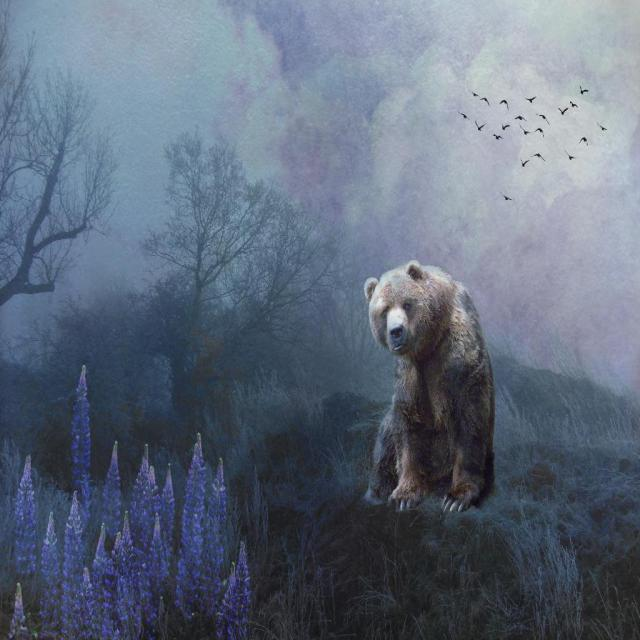Cheetahs: (366, 256, 497, 510)
